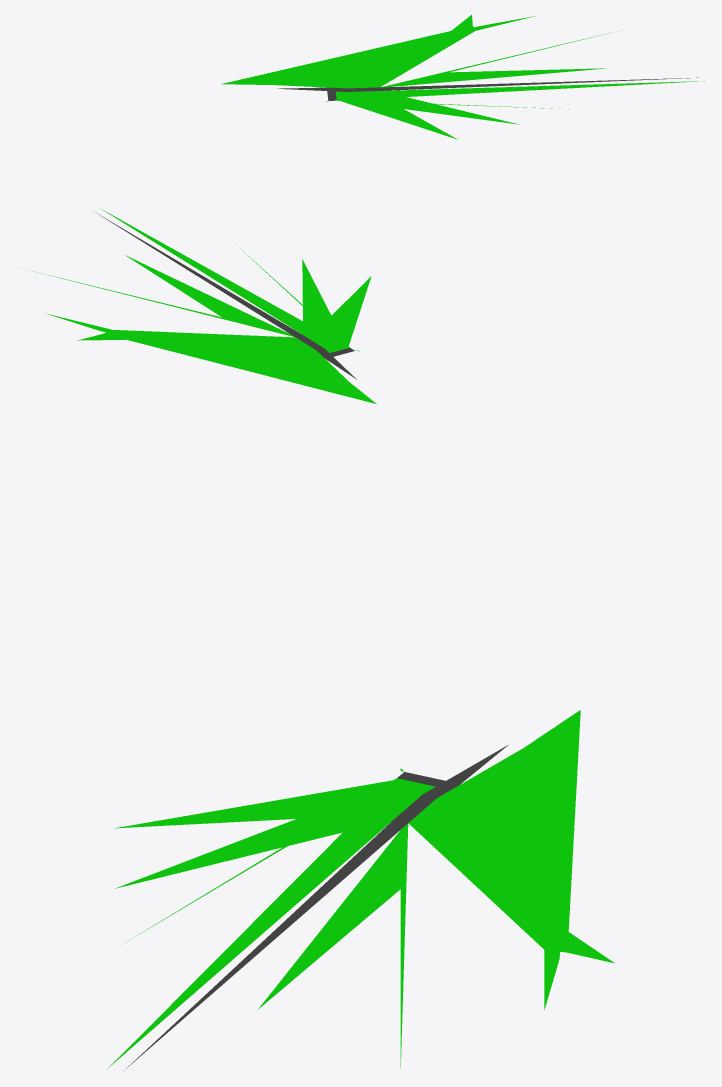
3 renders of one model, top to bottom at view 1: azimuth 30°, elevation 25°; view 2: azimuth 150°, elevation 25°; view 3: azimuth 270°, elevation 25°, orthographic. The views are drawn at different scales.
Size of the model in its own units: 301 by 0 by 106.
